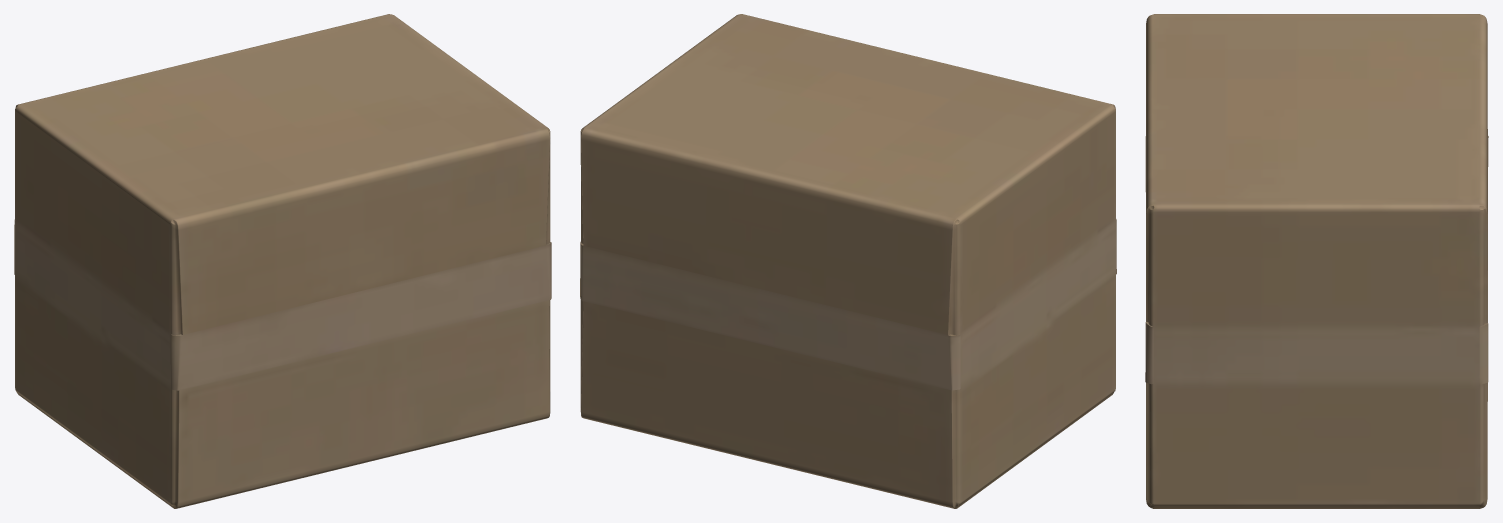
The model's file is box_cardboard_a01.glb.
3 views of the same model, side by side, from view 1: azimuth 30°, elevation 25°; view 2: azimuth 150°, elevation 25°; view 3: azimuth 270°, elevation 25° (orthographic). The views are drawn at different scales.
Parts seen in each view (by area): view 1: sm_box_a01_mesh_00; view 2: sm_box_a01_mesh_00; view 3: sm_box_a01_mesh_00.
Part boxes in pixels (x1,y1,x2,y2): sm_box_a01_mesh_00: [14, 14, 551, 508]; sm_box_a01_mesh_00: [580, 14, 1116, 508]; sm_box_a01_mesh_00: [1145, 14, 1488, 508].
Bounding box in the file's own units: 0.6994 × 0.5099 × 0.5211.
Materials: 1 (1 with a texture image).
